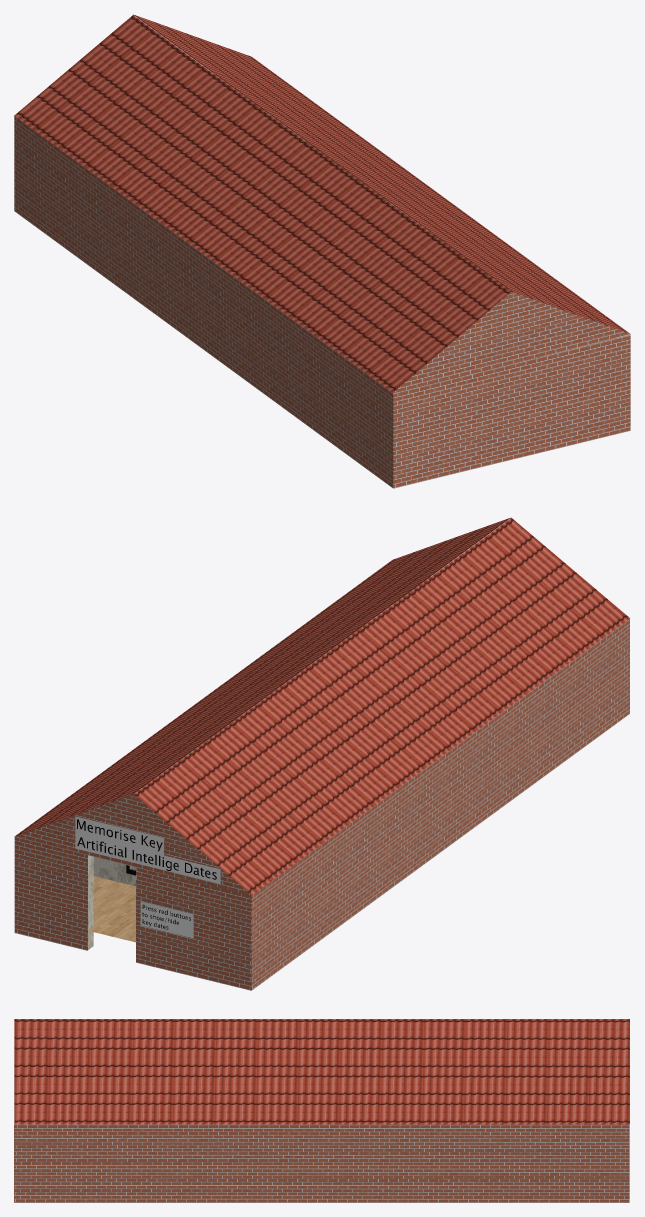
Rendered from walls_130.gltf.
The picture shows the model from 3 angles, top to bottom: view 1: azimuth 30°, elevation 25°; view 2: azimuth 150°, elevation 25°; view 3: azimuth 270°, elevation 25°; orthographic projection. The views are drawn at different scales.
Visible parts, largest first — view 1: polySurface4270; view 2: polySurface4270, pCube268, polySurface4232, walls_121, pCube269, typeMesh46; view 3: polySurface4270.
Part boxes in pixels (x1,y1,x2,y2): polySurface4270: (14, 14, 630, 488); polySurface4270: (14, 517, 629, 990); pCube268: (75, 816, 220, 883); polySurface4232: (88, 876, 135, 942); walls_121: (88, 577, 429, 949); pCube269: (140, 901, 193, 938); typeMesh46: (77, 819, 216, 879); polySurface4270: (14, 1019, 629, 1202).
Size of what is drawn, in the model's own units: 15.79 by 10.69 by 43.48.
15 materials, 11 textured.
